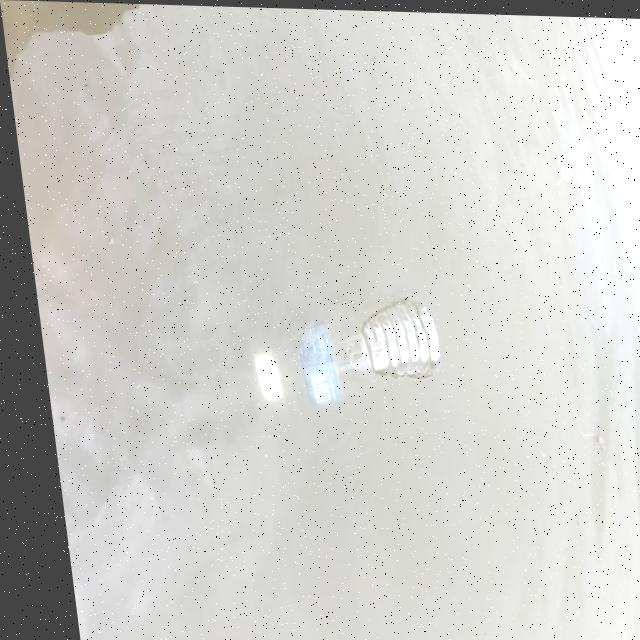waterbottle: (219, 278, 449, 454)
